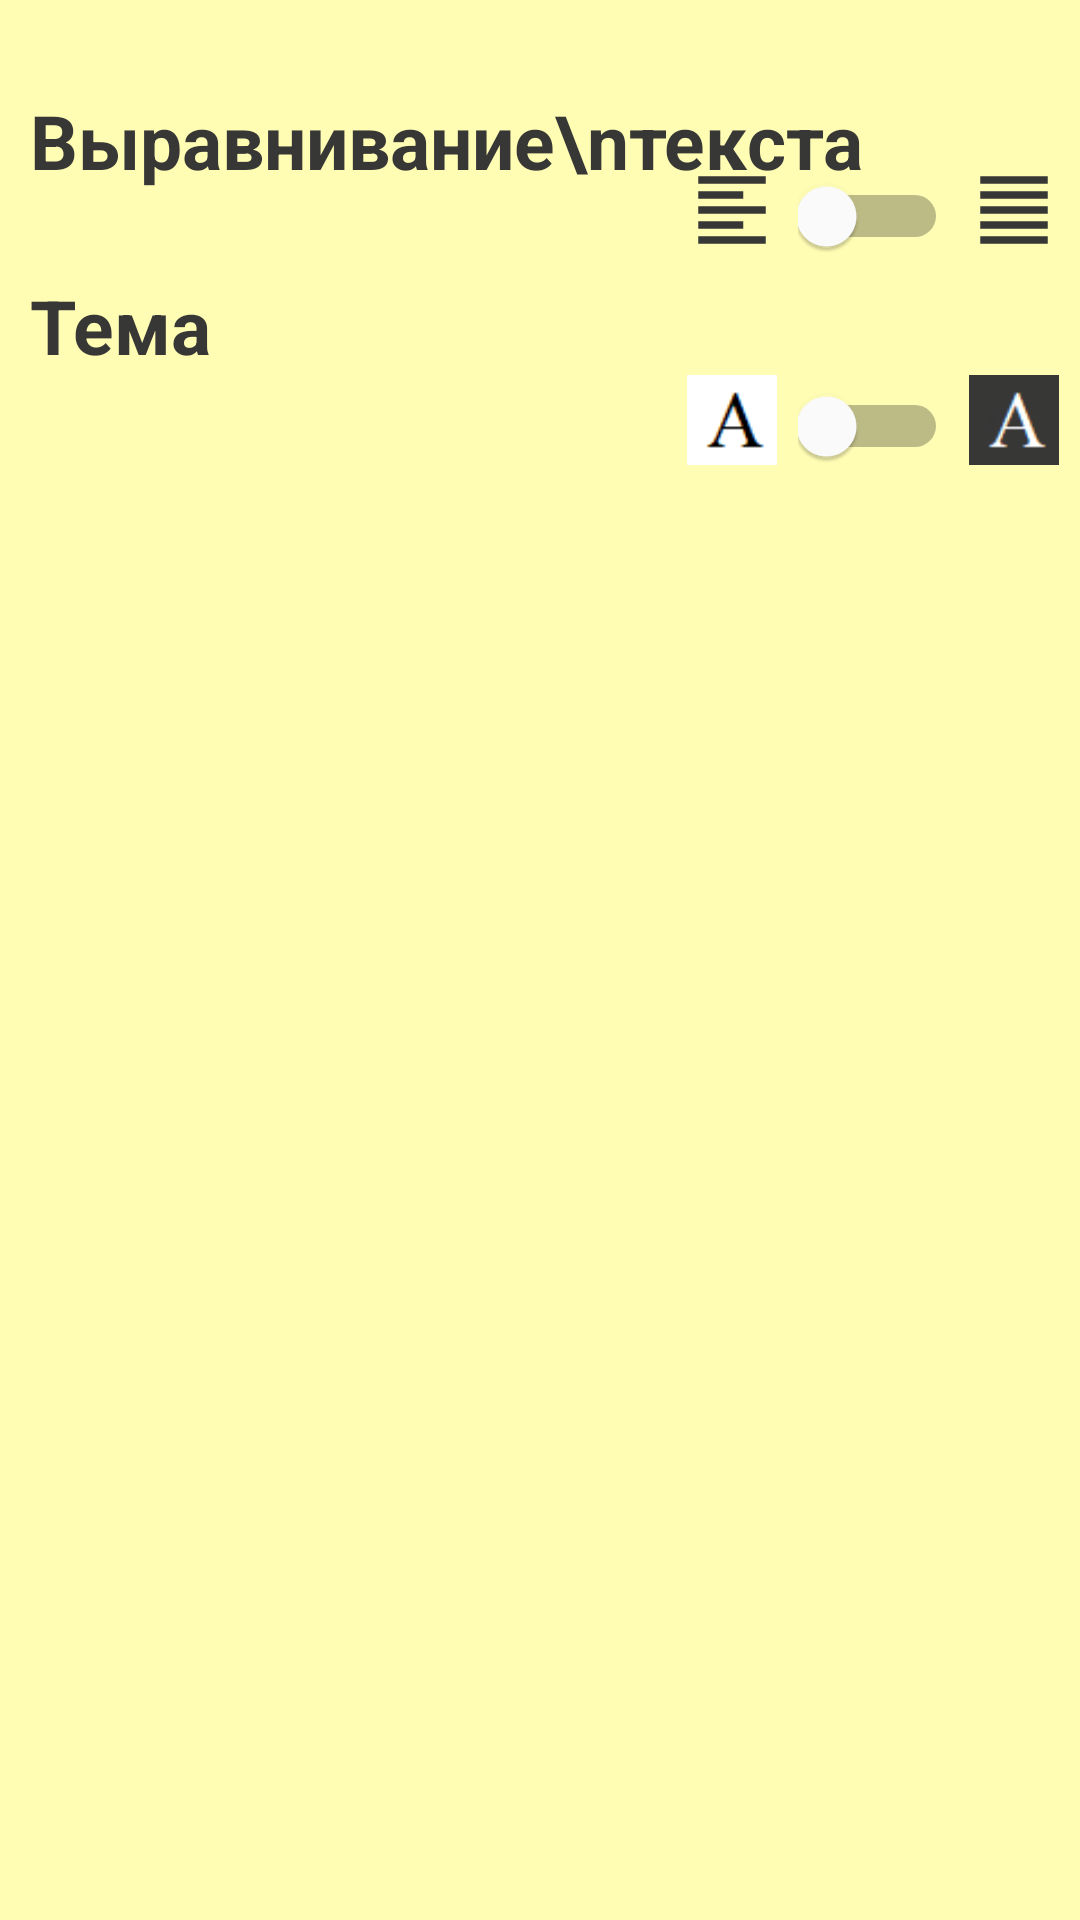

Named icons in this screenshot (1080px×1920px) and their centers, point (x, y):
format align left: point (732, 210)
theme: point (732, 420), point (1014, 420)
